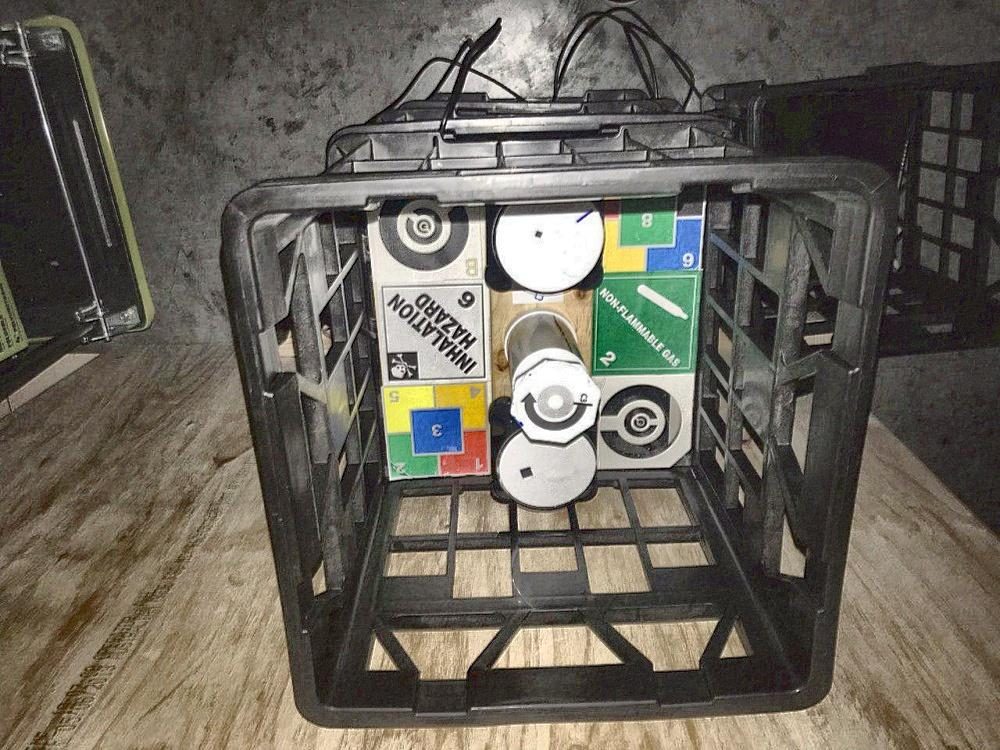non-flammable-gas: (590, 270, 702, 377)
poison: (375, 280, 493, 384)
